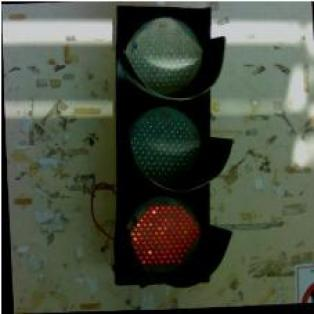Semaforo Rojo: (101, 3, 234, 289)
